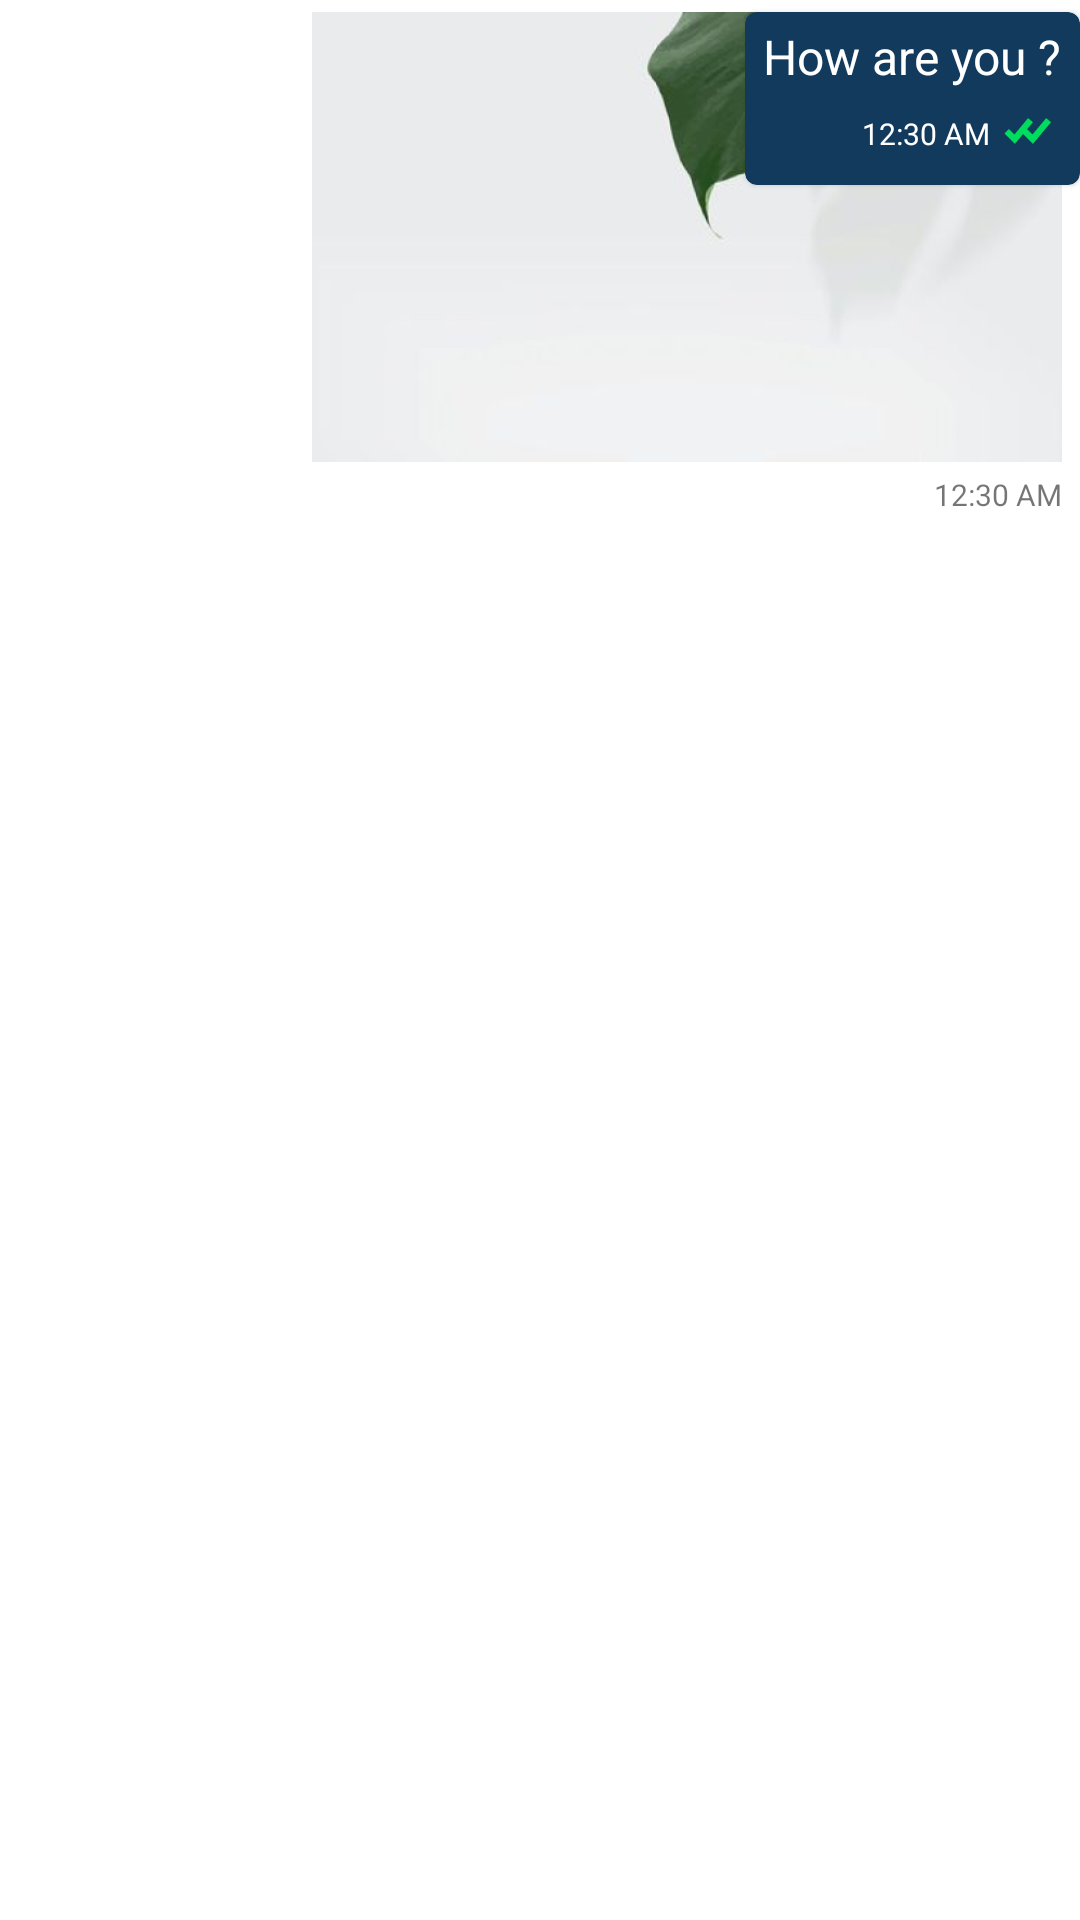

Point at icon controls on the screen. Image size 1080x1920, points as point (x, y).
sent: point (1027, 131)
